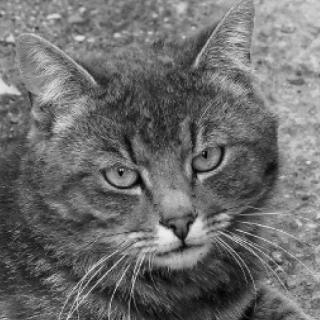cat: (17, 26, 285, 277)
nose: (148, 190, 200, 248)
